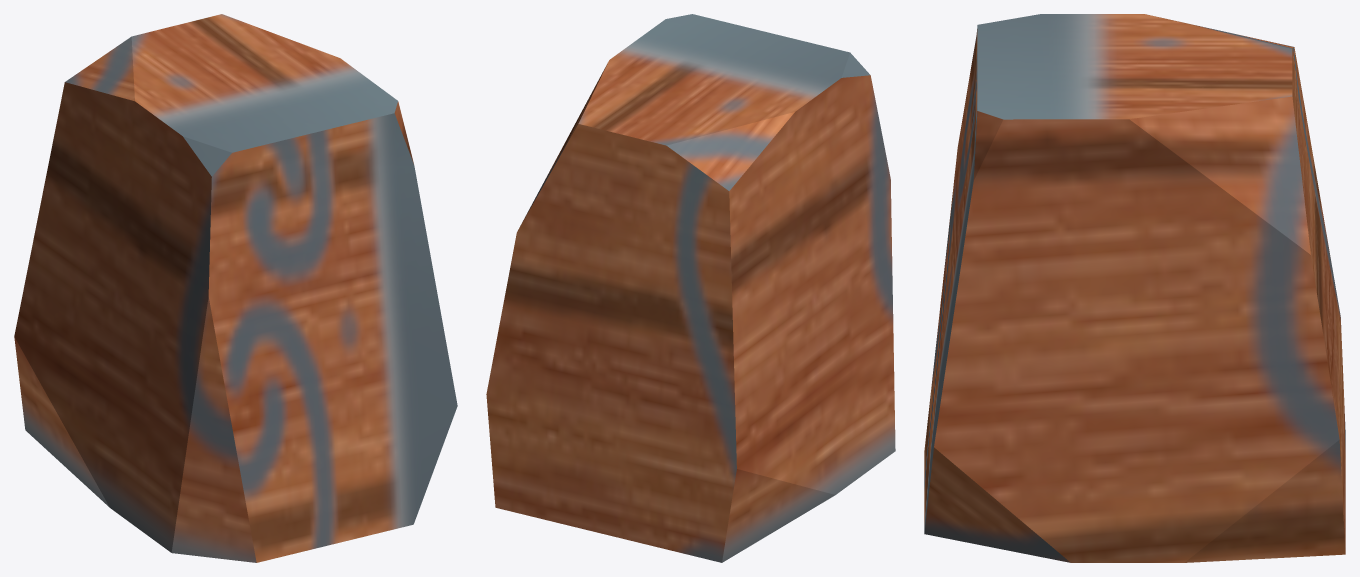
The model's file is Kamen_normal3.fbx.
The picture shows the model from 3 angles, left to right: view 1: azimuth 30°, elevation 25°; view 2: azimuth 150°, elevation 25°; view 3: azimuth 270°, elevation 25°; orthographic projection. The views are drawn at different scales.
Parts seen in each view (by area): view 1: Kamen_normal3; view 2: Kamen_normal3; view 3: Kamen_normal3.
Part boxes in pixels (x1,y1,x2,y2): Kamen_normal3: (14,14,457,562); Kamen_normal3: (486,14,895,562); Kamen_normal3: (924,14,1345,562).
Bounding box in the file's own units: 13.91 × 19.68 × 17.63.
